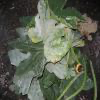Squash Powdery mildew leaf: (26, 0, 74, 64), (14, 61, 41, 99), (44, 54, 77, 79), (8, 47, 35, 71)
